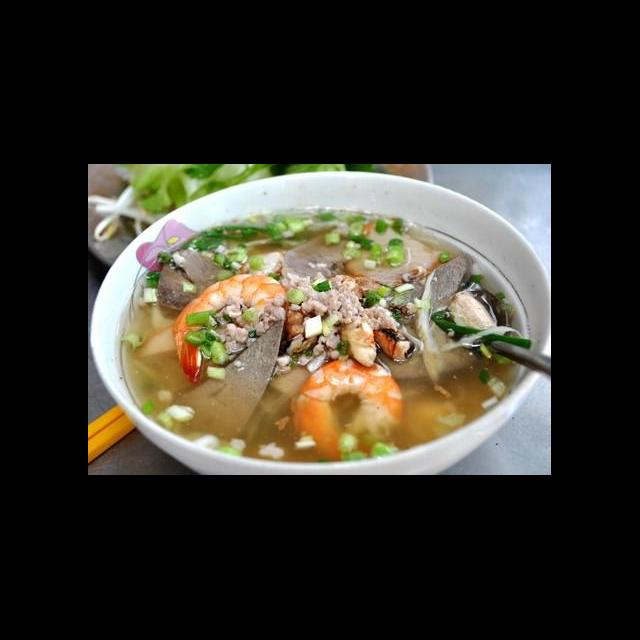gan: (167, 316, 290, 452), (368, 250, 477, 332), (278, 222, 372, 294), (154, 246, 248, 314)
thit bam: (270, 266, 406, 378), (202, 297, 290, 363)
thit heo: (368, 287, 502, 383), (344, 218, 459, 292)
tom: (172, 264, 294, 390), (290, 352, 410, 467)
